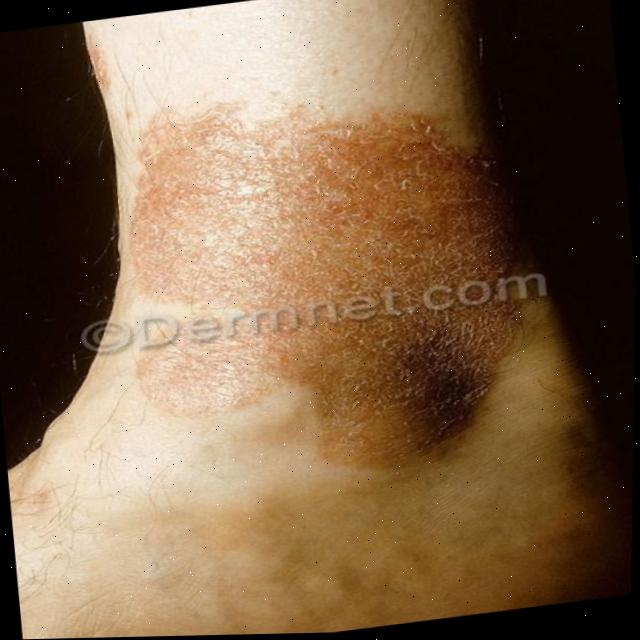Eczema: (162, 80, 539, 468)
